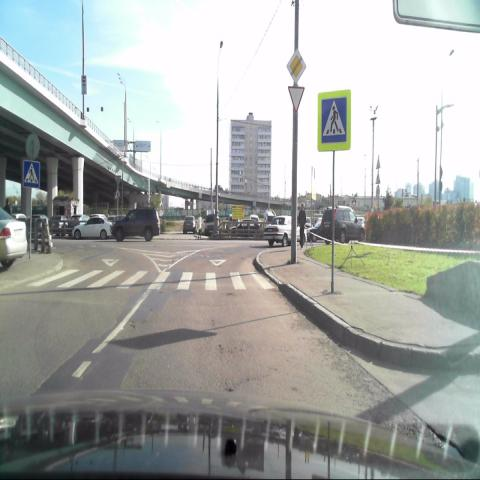2_2: (286, 49, 306, 86)
2_4: (288, 84, 304, 112)
5_19_1: (317, 92, 352, 152), (21, 160, 42, 190)
